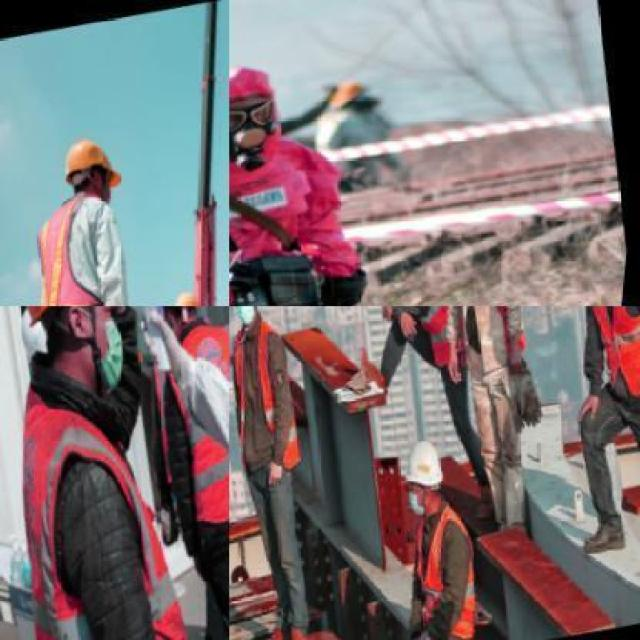Vest: (0, 328, 228, 638), (230, 112, 412, 305), (148, 315, 228, 531), (20, 176, 145, 304), (229, 311, 322, 474), (403, 494, 505, 638), (372, 306, 478, 385), (571, 306, 638, 402), (430, 306, 544, 362)
